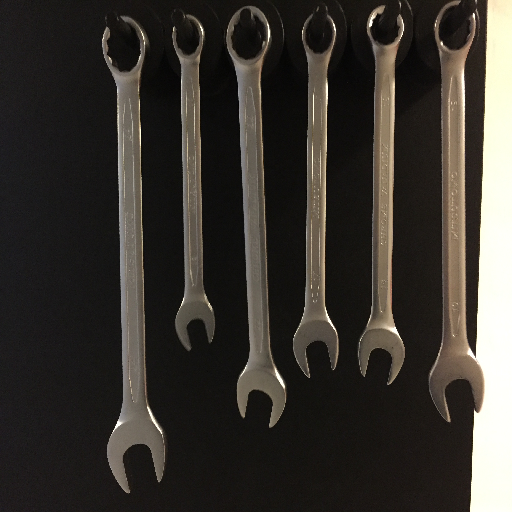bottom: (424, 350, 491, 431), (102, 419, 172, 495), (232, 365, 292, 428), (352, 324, 410, 387), (290, 319, 341, 378), (172, 297, 218, 354)
top: (97, 11, 149, 77), (222, 4, 275, 64), (431, 1, 476, 53), (363, 4, 408, 54), (297, 8, 339, 58), (168, 11, 202, 59)
